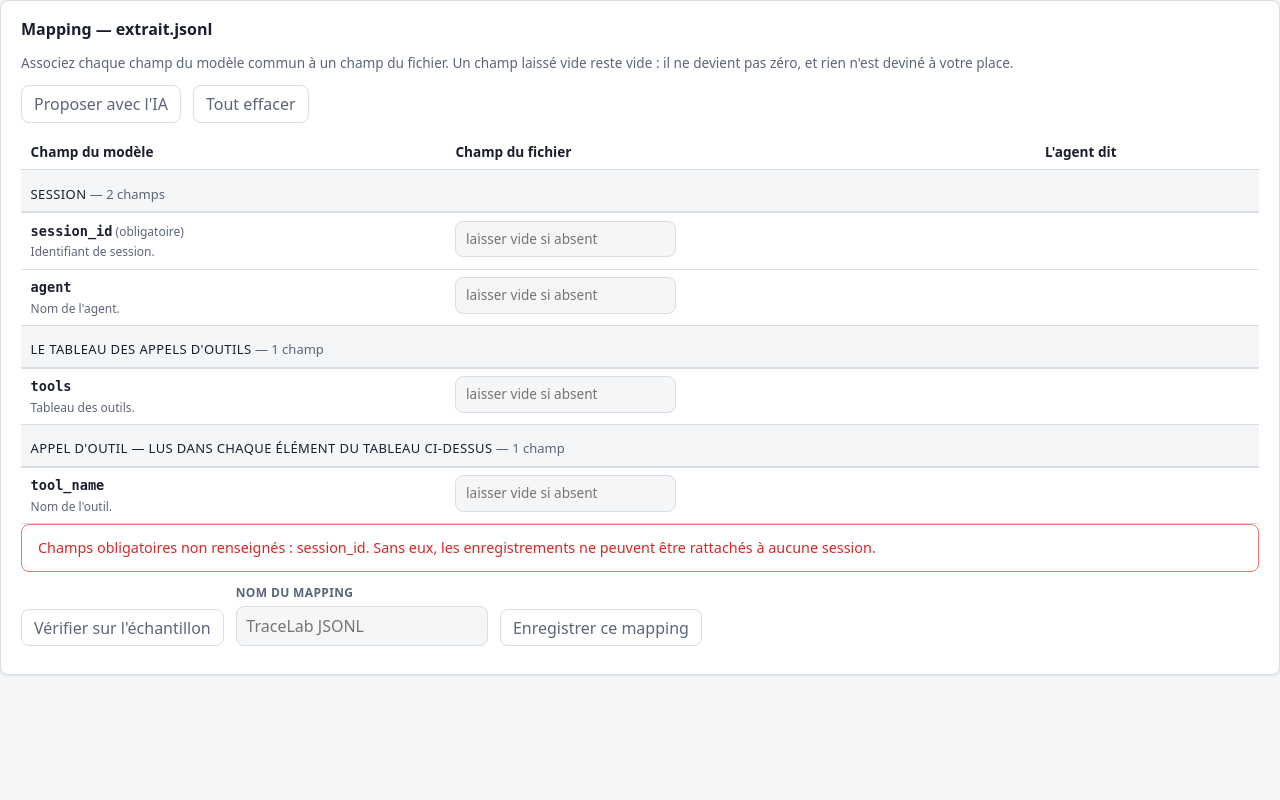
MappingEditor — la bibliothèque › enregistre le mapping sous le nom saisi
Type "sid" into the field named "Champ du fichier pour session_id" at {"x": 566, "y": 239}, box [455, 221, 676, 257]
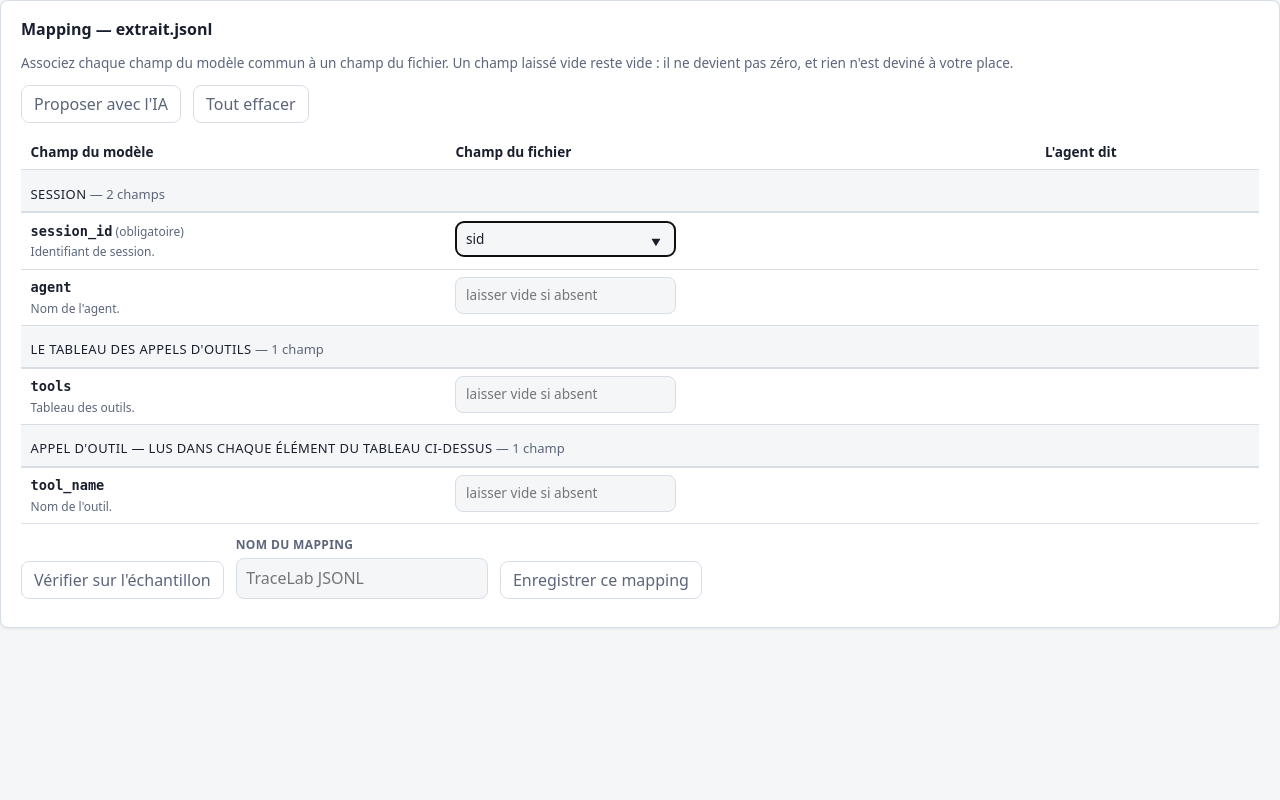
Type "TraceLab" into the field labelled "Nom du mapping" at {"x": 362, "y": 578}, box [236, 558, 488, 599]
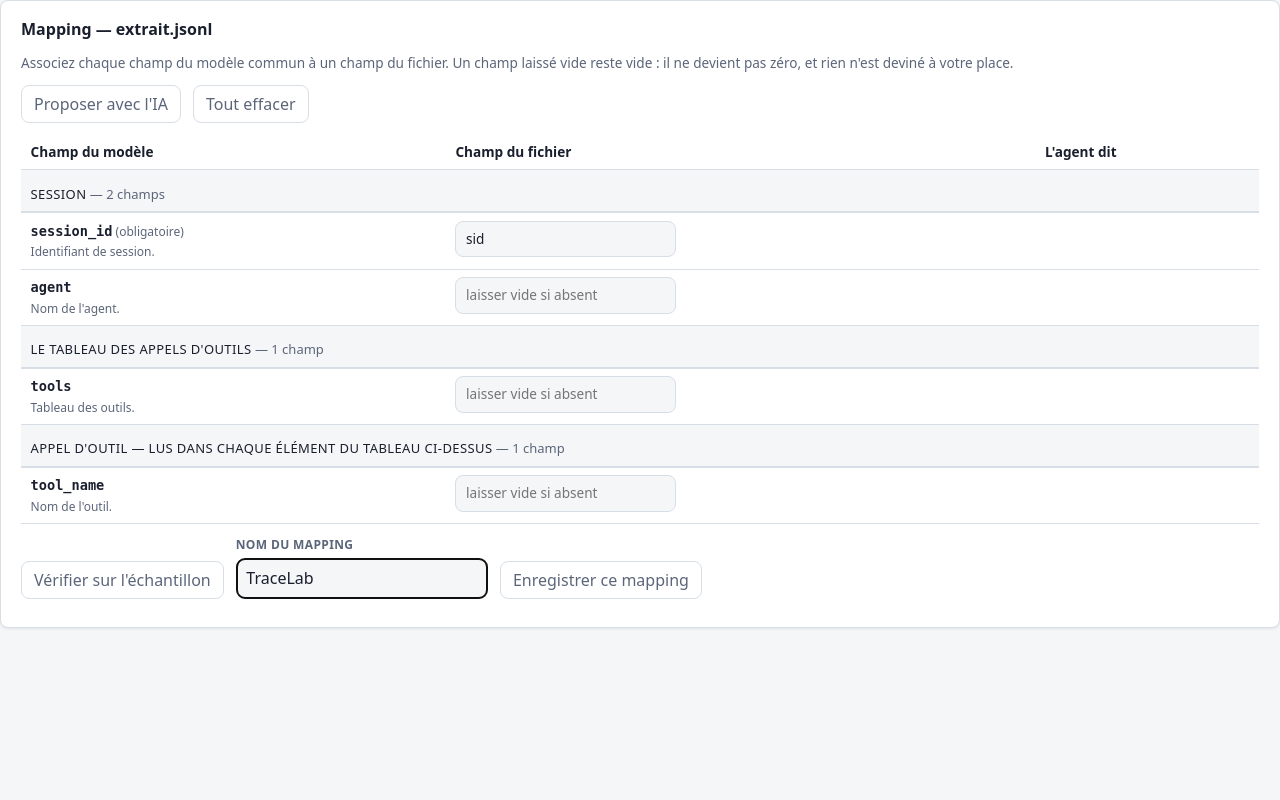
Click the button "Enregistrer ce mapping" at {"x": 601, "y": 580}, box [500, 561, 702, 599]
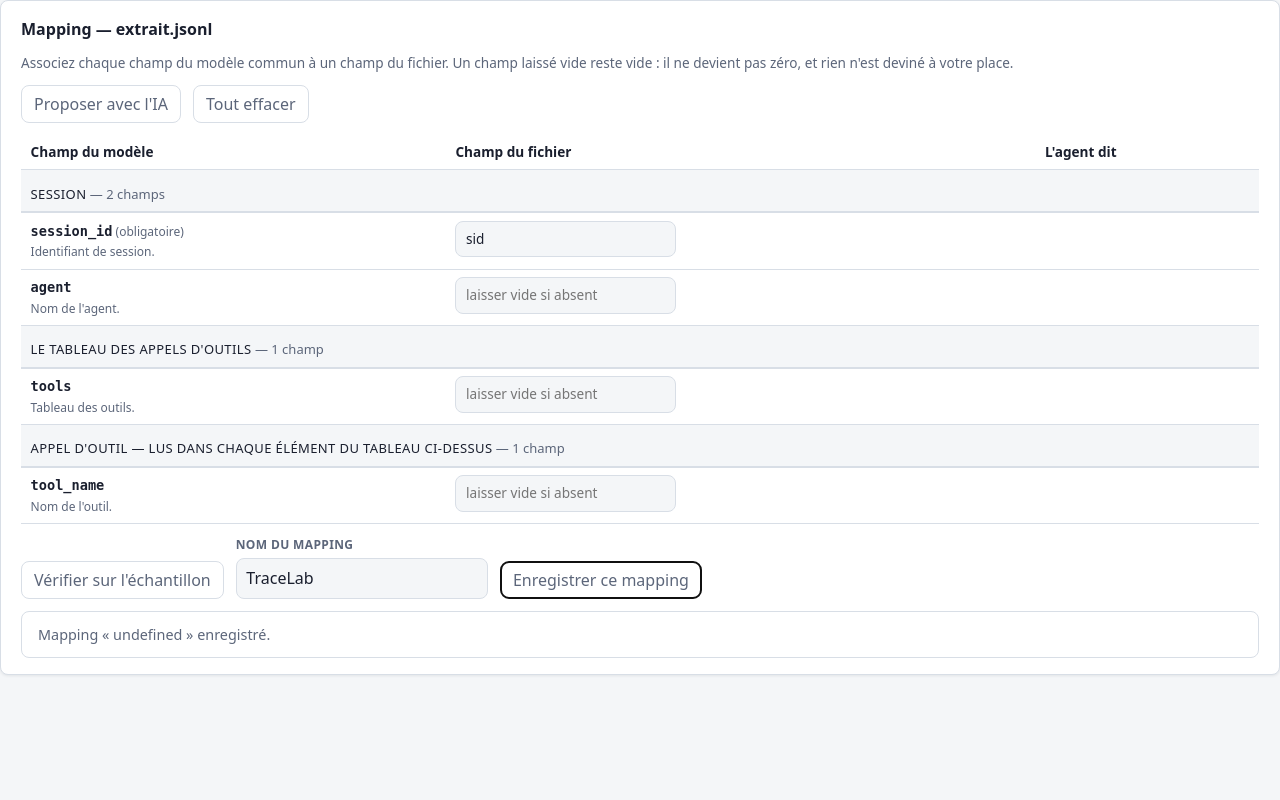
expect the text "Mapping « undefined » enregistré." is shown: met, box [21, 611, 1259, 658]
